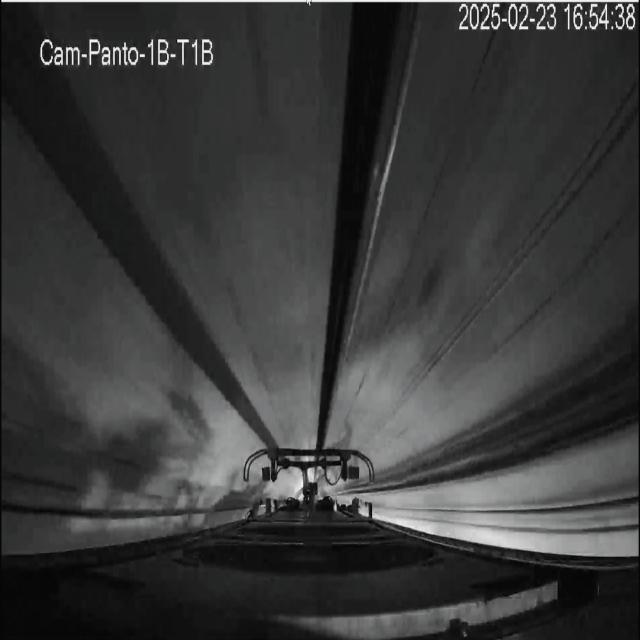Camera Stamp: (35, 29, 219, 70)
Date Stamp: (458, 3, 637, 33)
No - Spark: (244, 446, 375, 509)
